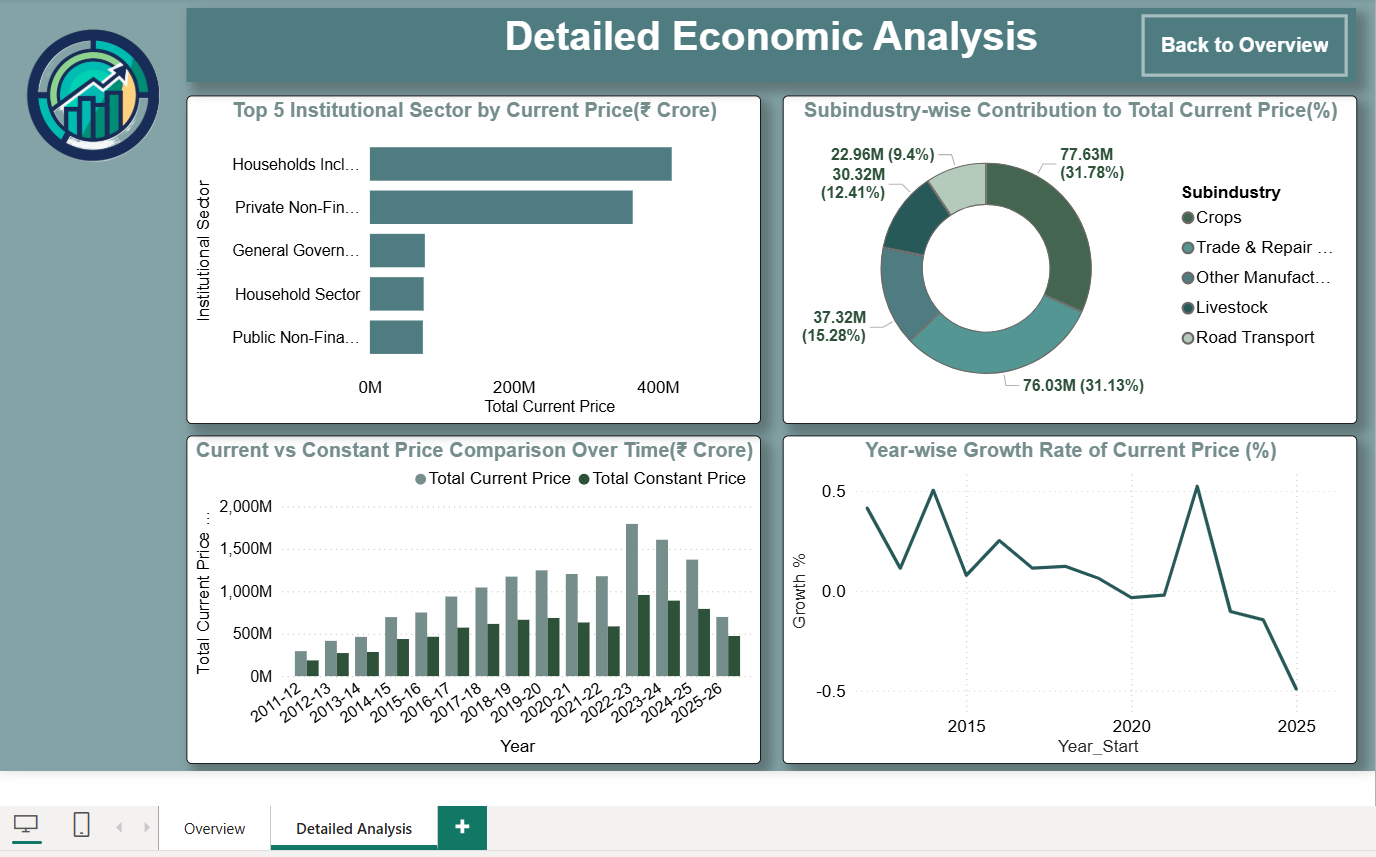

The dashboard page shown, as its layout file describes it:
{"tool":"powerbi","page":{"name":"Detailed Analysis","canvas":[1280,720],"ordinal":1},"visuals":[{"type":"clusteredColumnChart","title":"Current vs Constant Price Comparison Over Time(₹ Crore)","fields":{"Category":["Annually_Quarterly_Data.Year"],"Y":["Annually_Quarterly_Data.Total Current Price","Annually_Quarterly_Data.Total Constant Price"]},"box":[174.9,406.6,534.5,305.2],"z":0},{"type":"donutChart","title":"Subindustry-wise Contribution to Total Current Price(%)","fields":{"Category":["Annually_Quarterly_Data.Subindustry"],"Y":["Annually_Quarterly_Data.Total Current Price"]},"box":[728.7,90.5,534.5,305.2],"z":1000},{"type":"lineChart","title":"Year-wise Growth Rate of Current Price (%)","fields":{"Category":["Annually_Quarterly_Data.Year_Start"],"Y":["Annually_Quarterly_Data.Growth %"]},"box":[728.7,406.6,534.5,305.2],"z":2000},{"type":"clusteredBarChart","title":"Top 5 Institutional Sector  by Current Price(₹ Crore)","fields":{"Category":["Annually_Quarterly_Data.Institutional Sector"],"Y":["Annually_Quarterly_Data.Total Current Price"]},"box":[174.9,90.5,534.5,305.2],"z":3000},{"type":"textbox","box":[174.9,9.7,1088.2,68.8],"z":3500},{"type":"actionButton","box":[1062.8,15.1,191.9,58.1],"z":4000},{"type":"image","box":[0,0,174.9,181],"z":5000}]}

Visuals, with their boxes in screenshot pixels (x1, y1, x2, y2):
"Current vs Constant Price Comparison Over Time(₹ Crore)" clusteredColumnChart: bbox=(193, 442, 759, 765)
"Subindustry-wise Contribution to Total Current Price(%)" donutChart: bbox=(780, 107, 1346, 430)
"Year-wise Growth Rate of Current Price (%)" lineChart: bbox=(780, 442, 1346, 765)
"Top 5 Institutional Sector  by Current Price(₹ Crore)" clusteredBarChart: bbox=(193, 107, 759, 430)
textbox: bbox=(193, 21, 1346, 94)
actionButton: bbox=(1134, 27, 1337, 88)
image: bbox=(7, 11, 193, 203)
